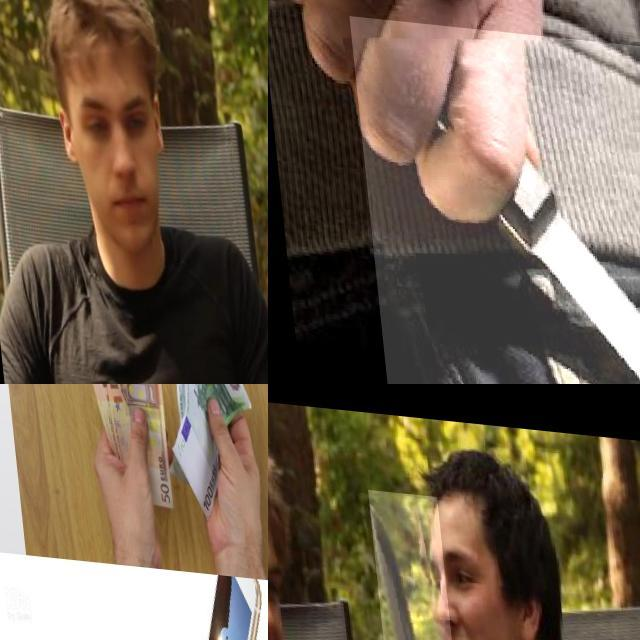-: (347, 14, 640, 384), (366, 483, 463, 640)
